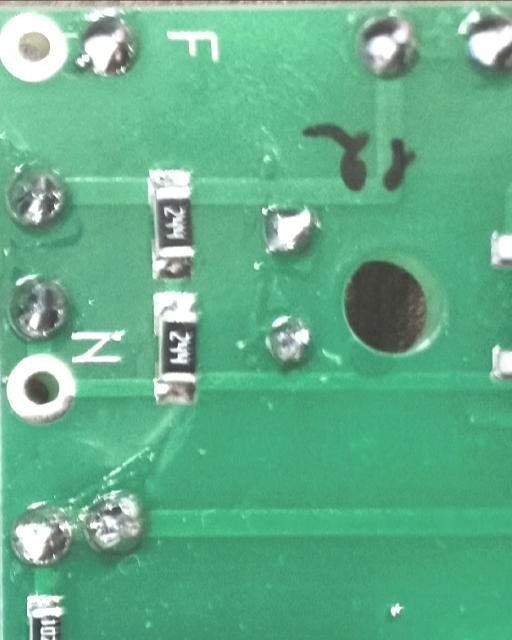chip-resistor: (152, 289, 200, 408), (146, 168, 195, 283), (25, 591, 66, 640)
